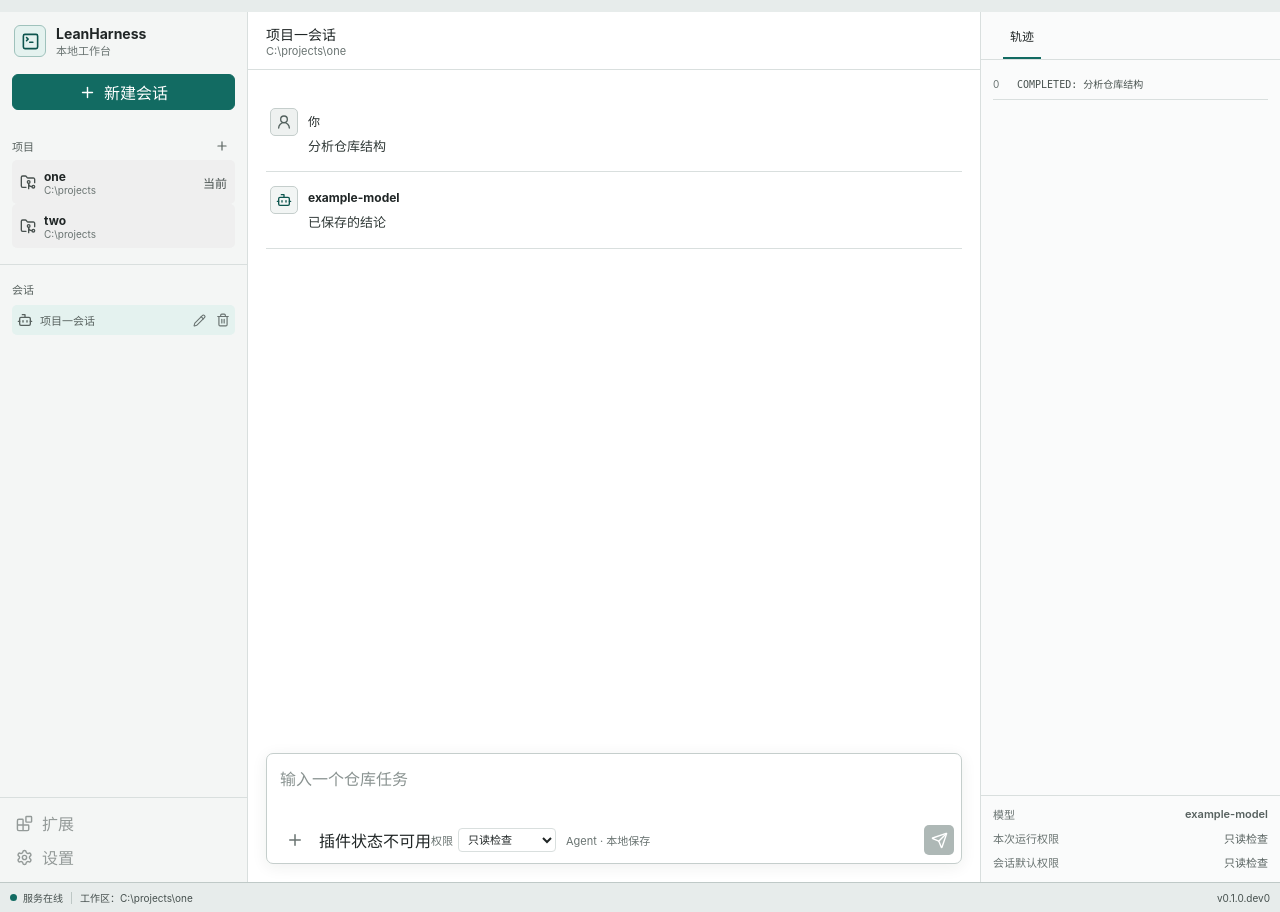
Test: application shell › keeps project order stable and restores a separate session per project
The width and height of the screenshot is (1280, 912).
Expected: the text "项目一会话" below "本地工作台" is shown, [40,314,95,328]
Expected: the text "one" is shown, [44,168,66,184]
Click the button titled "C:\\projects\\two" at (124, 226), box [12,204,235,248]
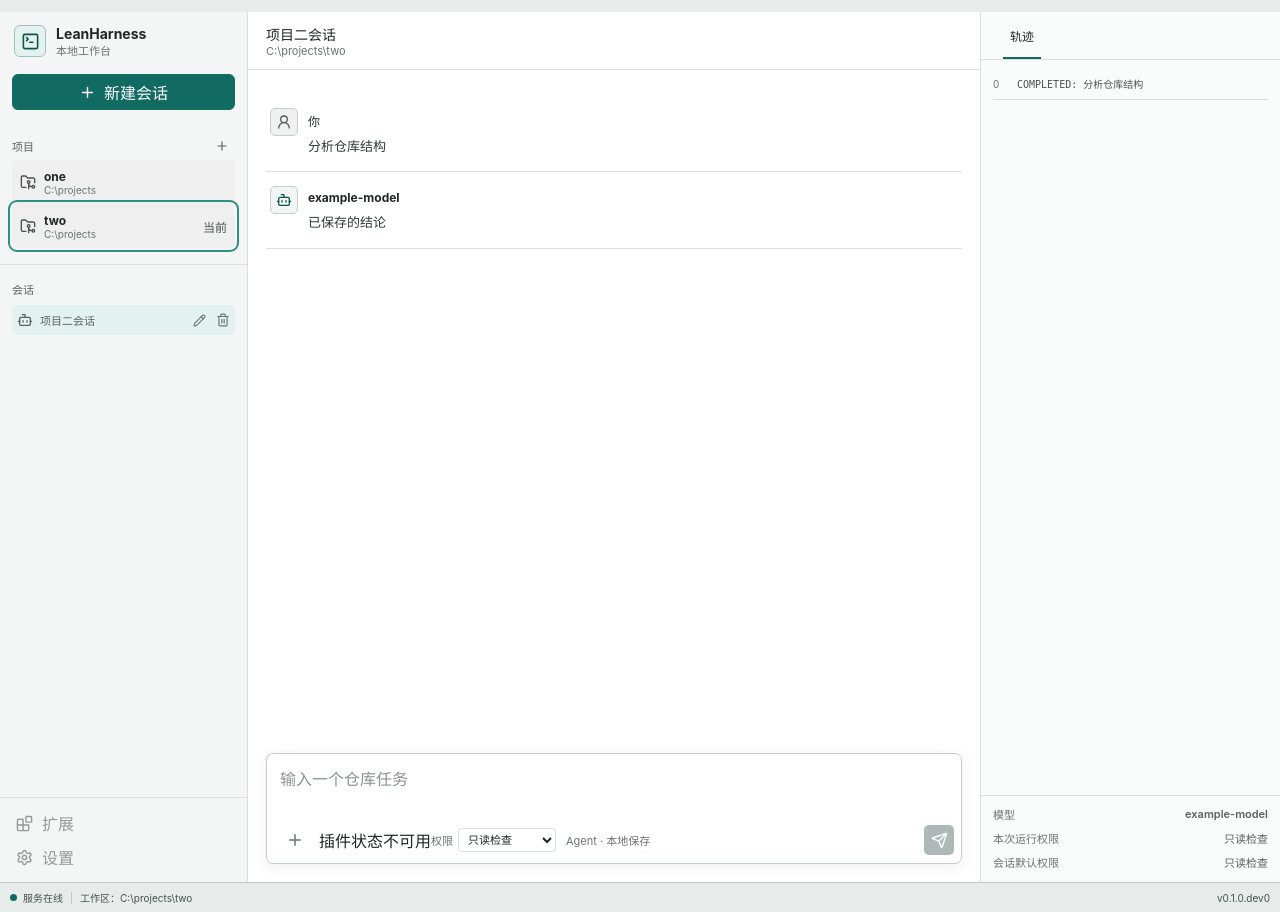
Now the text "项目二会话" below "本地工作台" is shown, box [40,314,95,328]
Click the button titled "C:\\projects\\one" at (124, 182), box [12,160,235,204]
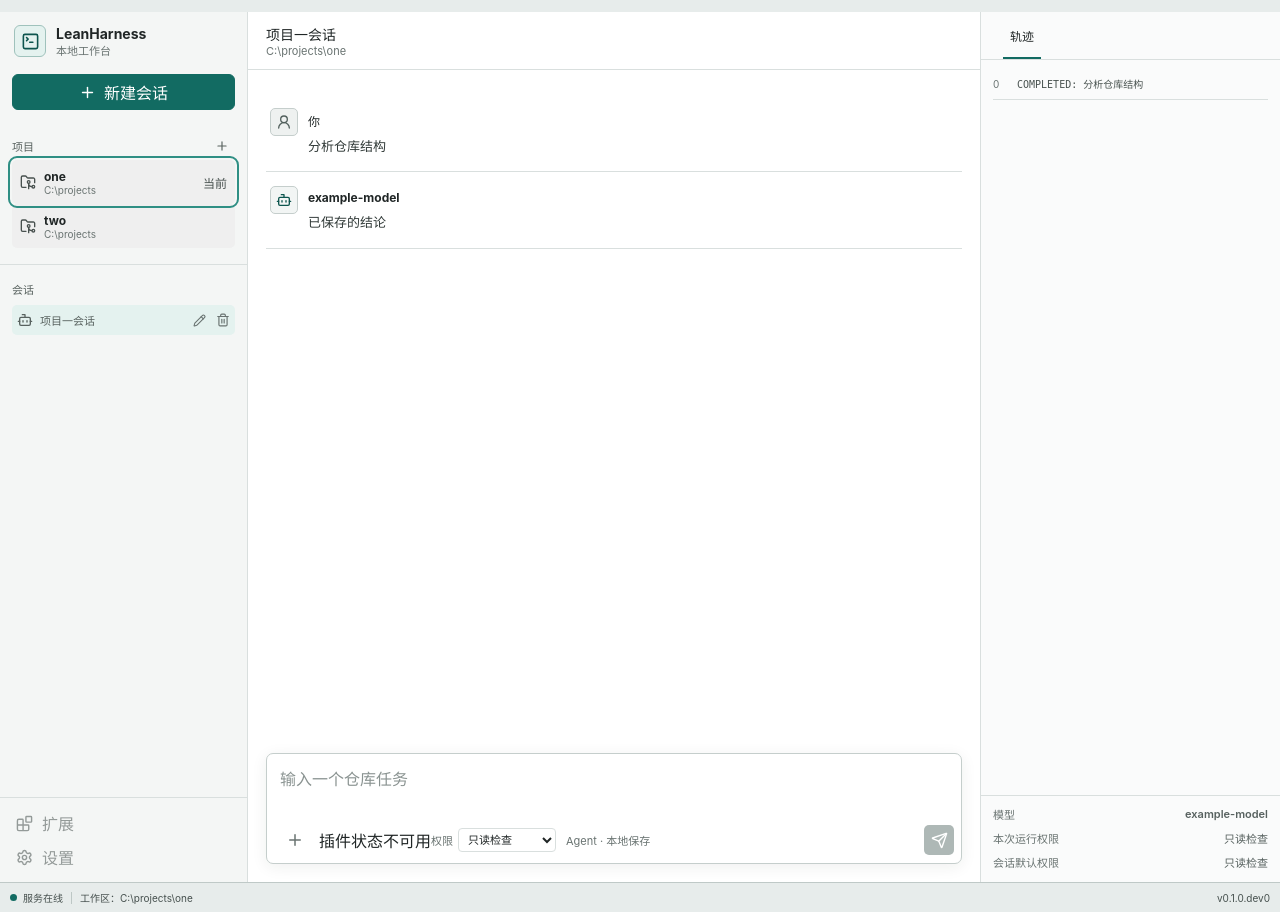
Now the text "项目一会话" below "本地工作台" is shown, box [40,314,95,328]
